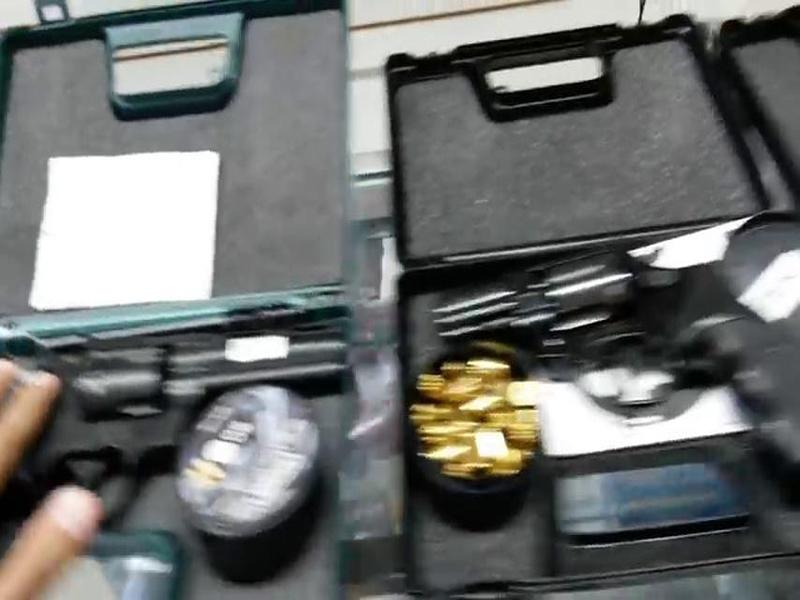Revolver: (439, 222, 800, 447), (16, 311, 353, 543)
